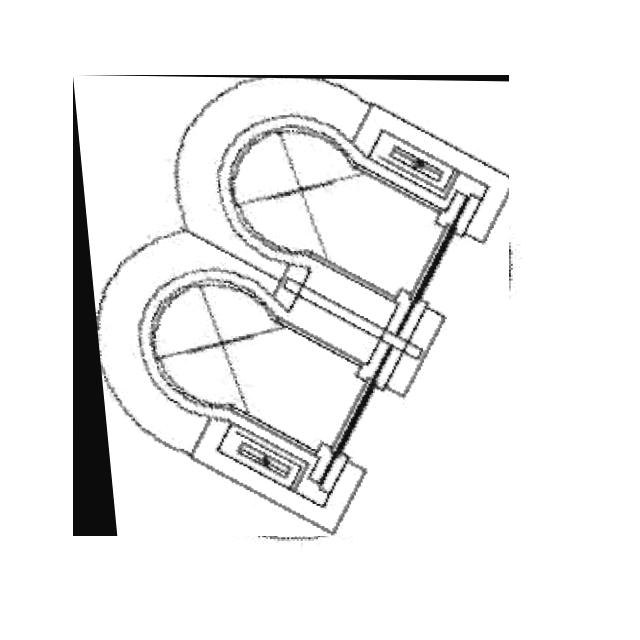lift: (73, 75, 509, 536)
